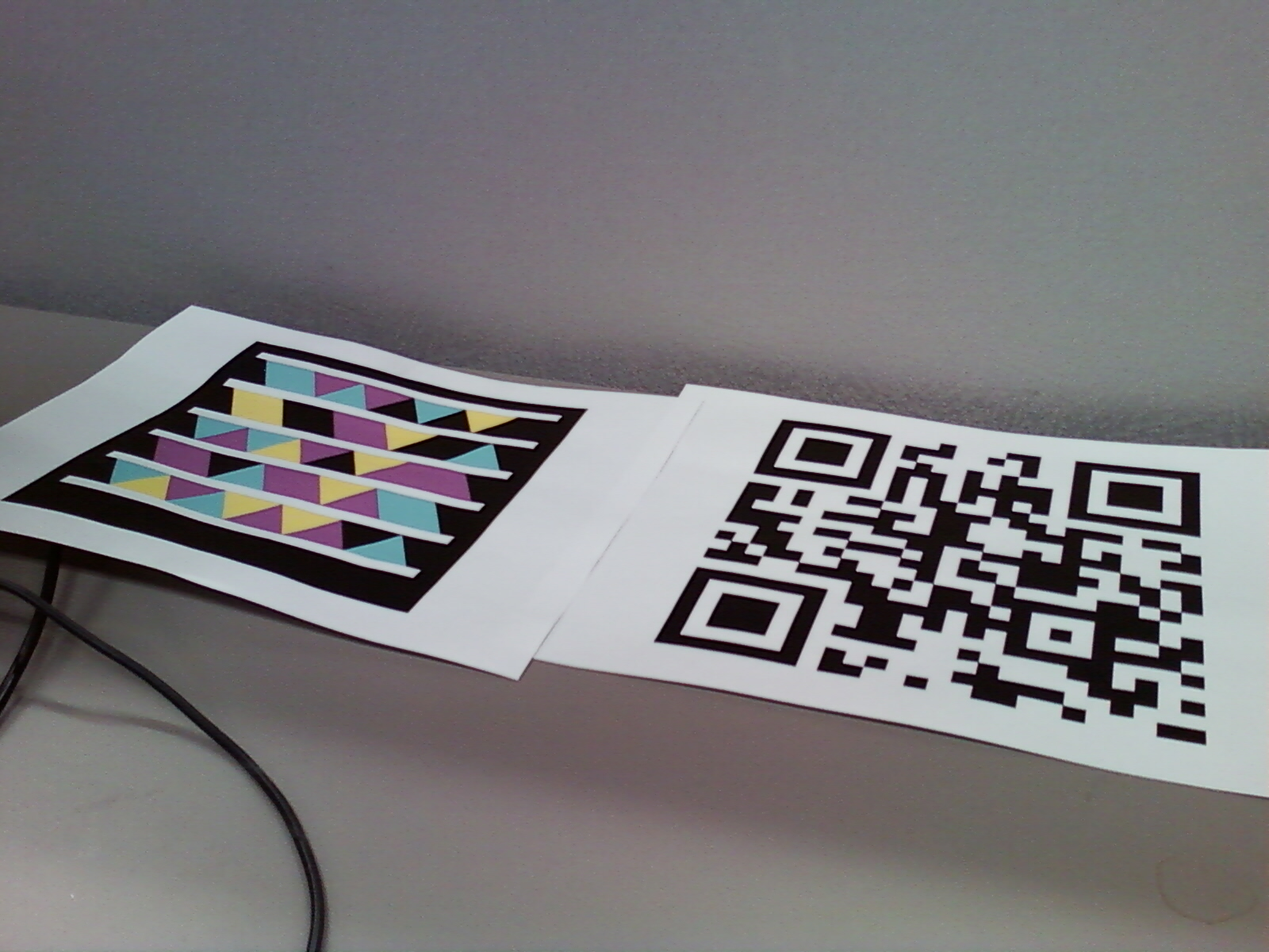QR-CODE: (654, 420, 1206, 746)
